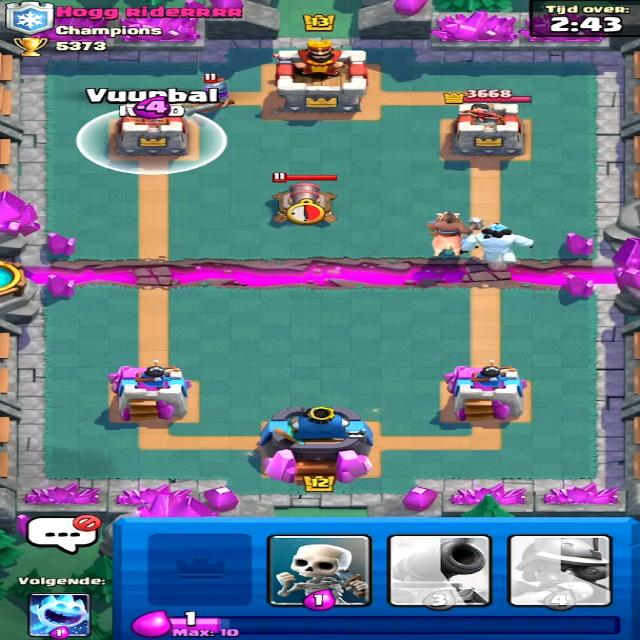Cannon_Card: (387, 534, 498, 609)
Hog_Rider_Troop: (416, 212, 483, 256)
Ice_Golem_Troop: (459, 223, 534, 264)
Musketeer_Card: (509, 534, 617, 605)
Skeleton_Card: (272, 536, 364, 604)
